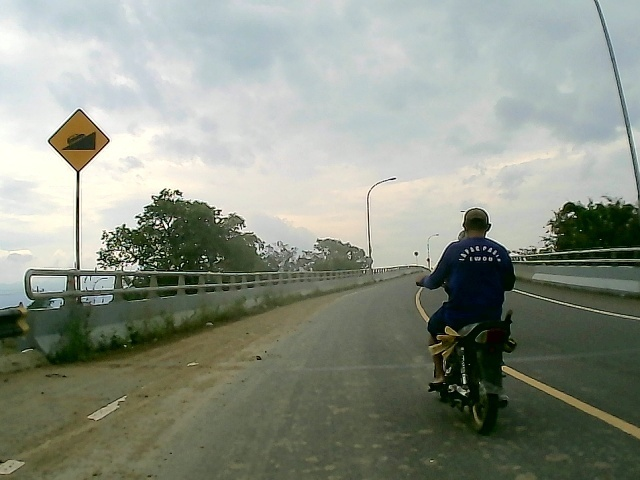Jalanan menanjak: (44, 106, 115, 174)
